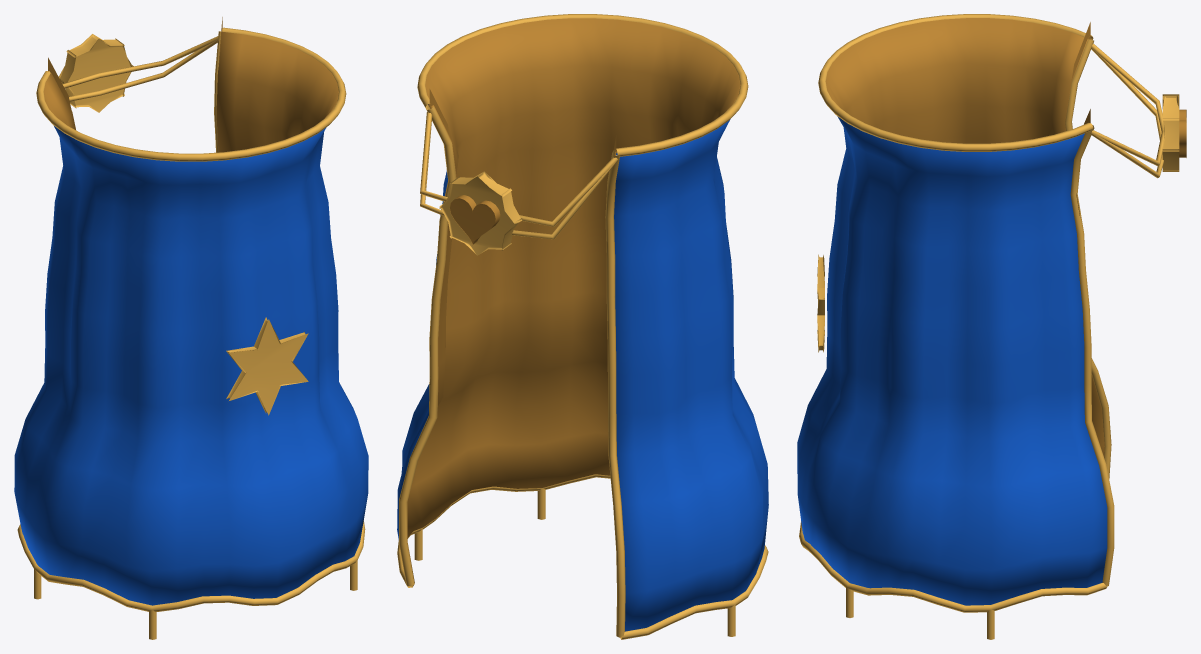
Rendered from royal-capes-queen.glb.
3 views of the same model, side by side, from view 1: azimuth 30°, elevation 25°; view 2: azimuth 150°, elevation 25°; view 3: azimuth 270°, elevation 25° (orthographic). The views are drawn at different scales.
Parts seen in each view (by area): view 1: tailored_cloth, tailored_gold_binding, back_heraldry, brooch_gold, tailored_gold_binding.001, clasp_chain, clasp_chain.001; view 2: tailored_cloth, tailored_gold_binding.003, tailored_gold_binding.002, tailored_gold_binding, brooch_gold, tailored_gold_binding.001, brooch_jewel, clasp_chain, clasp_chain.001; view 3: tailored_cloth, tailored_gold_binding, tailored_gold_binding.002, tailored_gold_binding.001, tailored_gold_binding.003, brooch_gold, clasp_chain, clasp_chain.001, back_heraldry.
Part boxes in pixels (<box>): tailored_cloth: <box>14,31,368,605</box>; tailored_gold_binding: <box>36,27,346,161</box>; back_heraldry: <box>226,317,308,415</box>; brooch_gold: <box>58,34,133,112</box>; tailored_gold_binding.001: <box>17,520,365,612</box>; clasp_chain: <box>62,36,218,88</box>; clasp_chain.001: <box>69,39,217,101</box>; tailored_cloth: <box>397,18,768,631</box>; tailored_gold_binding.003: <box>605,150,625,637</box>; tailored_gold_binding.002: <box>399,105,456,586</box>; tailored_gold_binding: <box>417,14,748,156</box>; brooch_gold: <box>439,171,521,255</box>; tailored_gold_binding.001: <box>397,474,768,639</box>; brooch_jewel: <box>449,195,500,245</box>; clasp_chain: <box>420,112,617,226</box>; clasp_chain.001: <box>420,117,618,239</box>; tailored_cloth: <box>797,18,1107,605</box>; tailored_gold_binding: <box>818,14,1093,151</box>; tailored_gold_binding.002: <box>1070,125,1114,585</box>; tailored_gold_binding.001: <box>799,521,1107,612</box>; tailored_gold_binding.003: <box>1065,39,1111,478</box>; brooch_gold: <box>1162,94,1179,171</box>; clasp_chain: <box>1091,43,1164,166</box>; clasp_chain.001: <box>1090,48,1163,178</box>; back_heraldry: <box>817,254,824,352</box>.
Bounding box in the file's own units: 0.3795 × 0.5848 × 0.4116.
